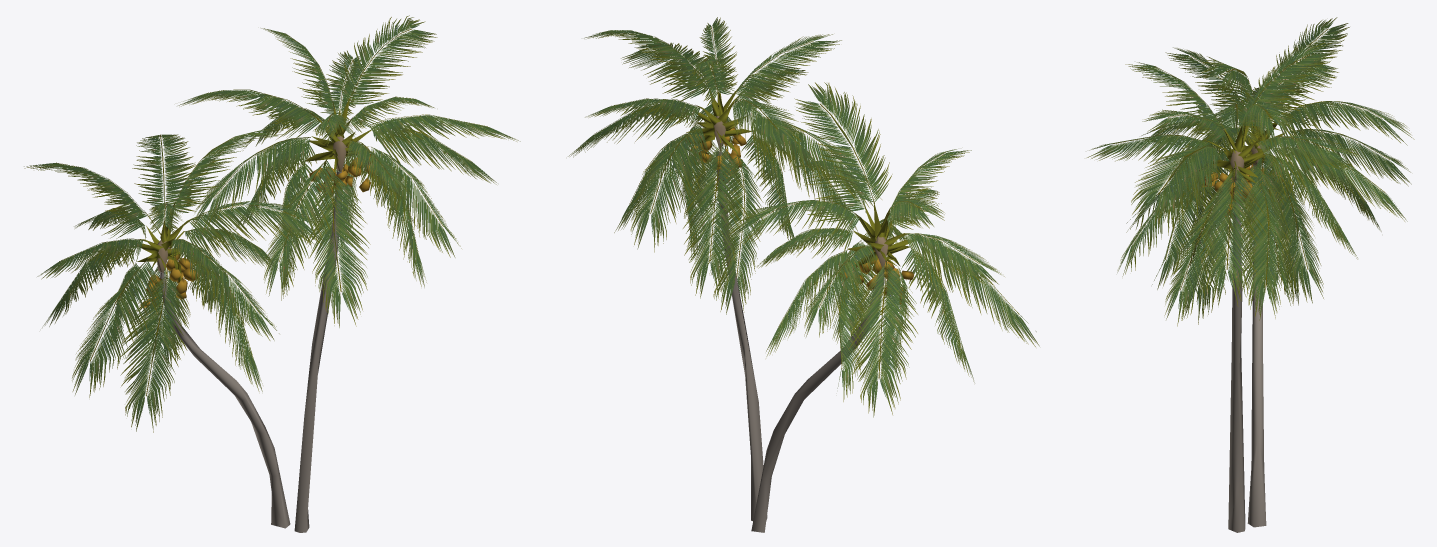
The model's file is coconut-palm.lod0.glb.
The picture shows the model from 3 angles, left to right: view 1: azimuth 30°, elevation 25°; view 2: azimuth 150°, elevation 25°; view 3: azimuth 270°, elevation 25°; orthographic projection. The views are drawn at different scales.
Parts seen in each view (by area): view 1: Tree_2_Tree_2Mat_0, Tree_0_Tree_0Mat_0; view 2: Tree_2_Tree_2Mat_0, Tree_0_Tree_0Mat_0; view 3: Tree_2_Tree_2Mat_0, Tree_0_Tree_0Mat_0.
Part boxes in pixels (x1=…): Tree_2_Tree_2Mat_0: x1=24, y1=15, x2=520, y2=432; Tree_0_Tree_0Mat_0: x1=137, y1=96, x2=377, y2=532; Tree_2_Tree_2Mat_0: x1=568, y1=17, x2=1039, y2=417; Tree_0_Tree_0Mat_0: x1=685, y1=82, x2=916, y2=532; Tree_2_Tree_2Mat_0: x1=1087, y1=17, x2=1414, y2=326; Tree_0_Tree_0Mat_0: x1=1202, y1=111, x2=1286, y2=532.
Size of the model in its own units: 9.02 by 9 by 5.76.
Materials: 2 (1 with a texture image).
